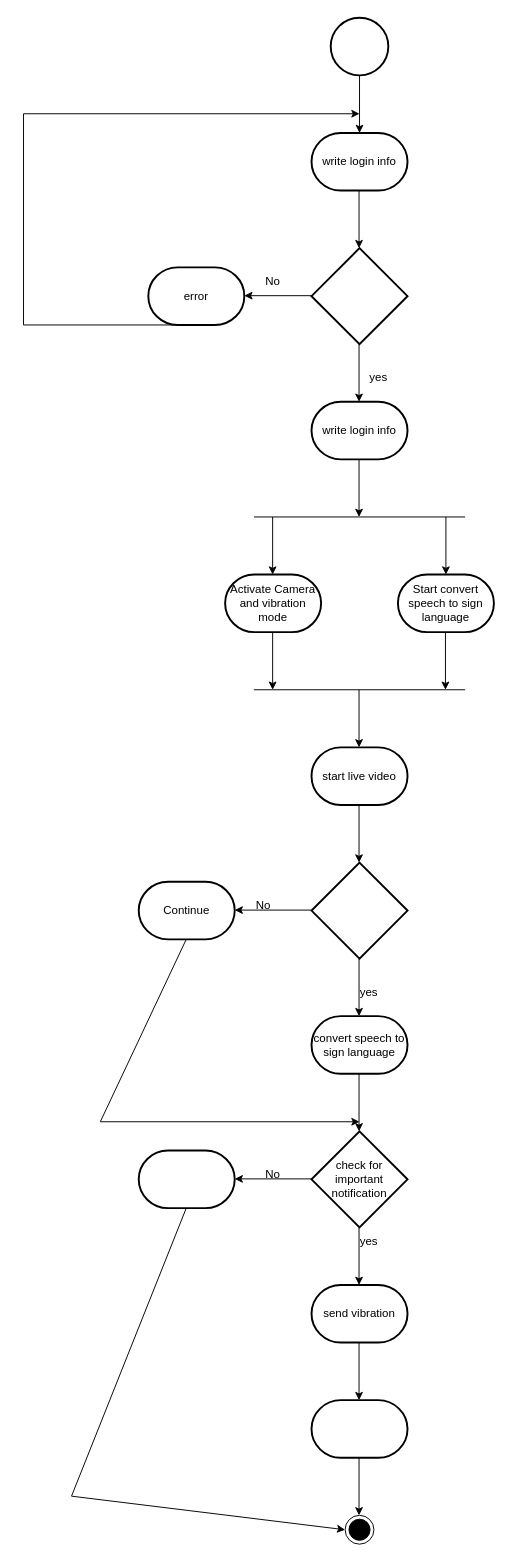
Some shapes in this 512 by 1561 pixel diagram are drawn without their labels. Each missing label, with the centre of its shape:
"display no notifications" belongs at (x=186, y=1179).
"select stop Guidance" belongs at (x=359, y=1428).
"someone call" belongs at (x=359, y=910).
"Validate login" belongs at (x=359, y=296).
